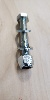FinishedAssembly: (14, 12, 36, 74)
